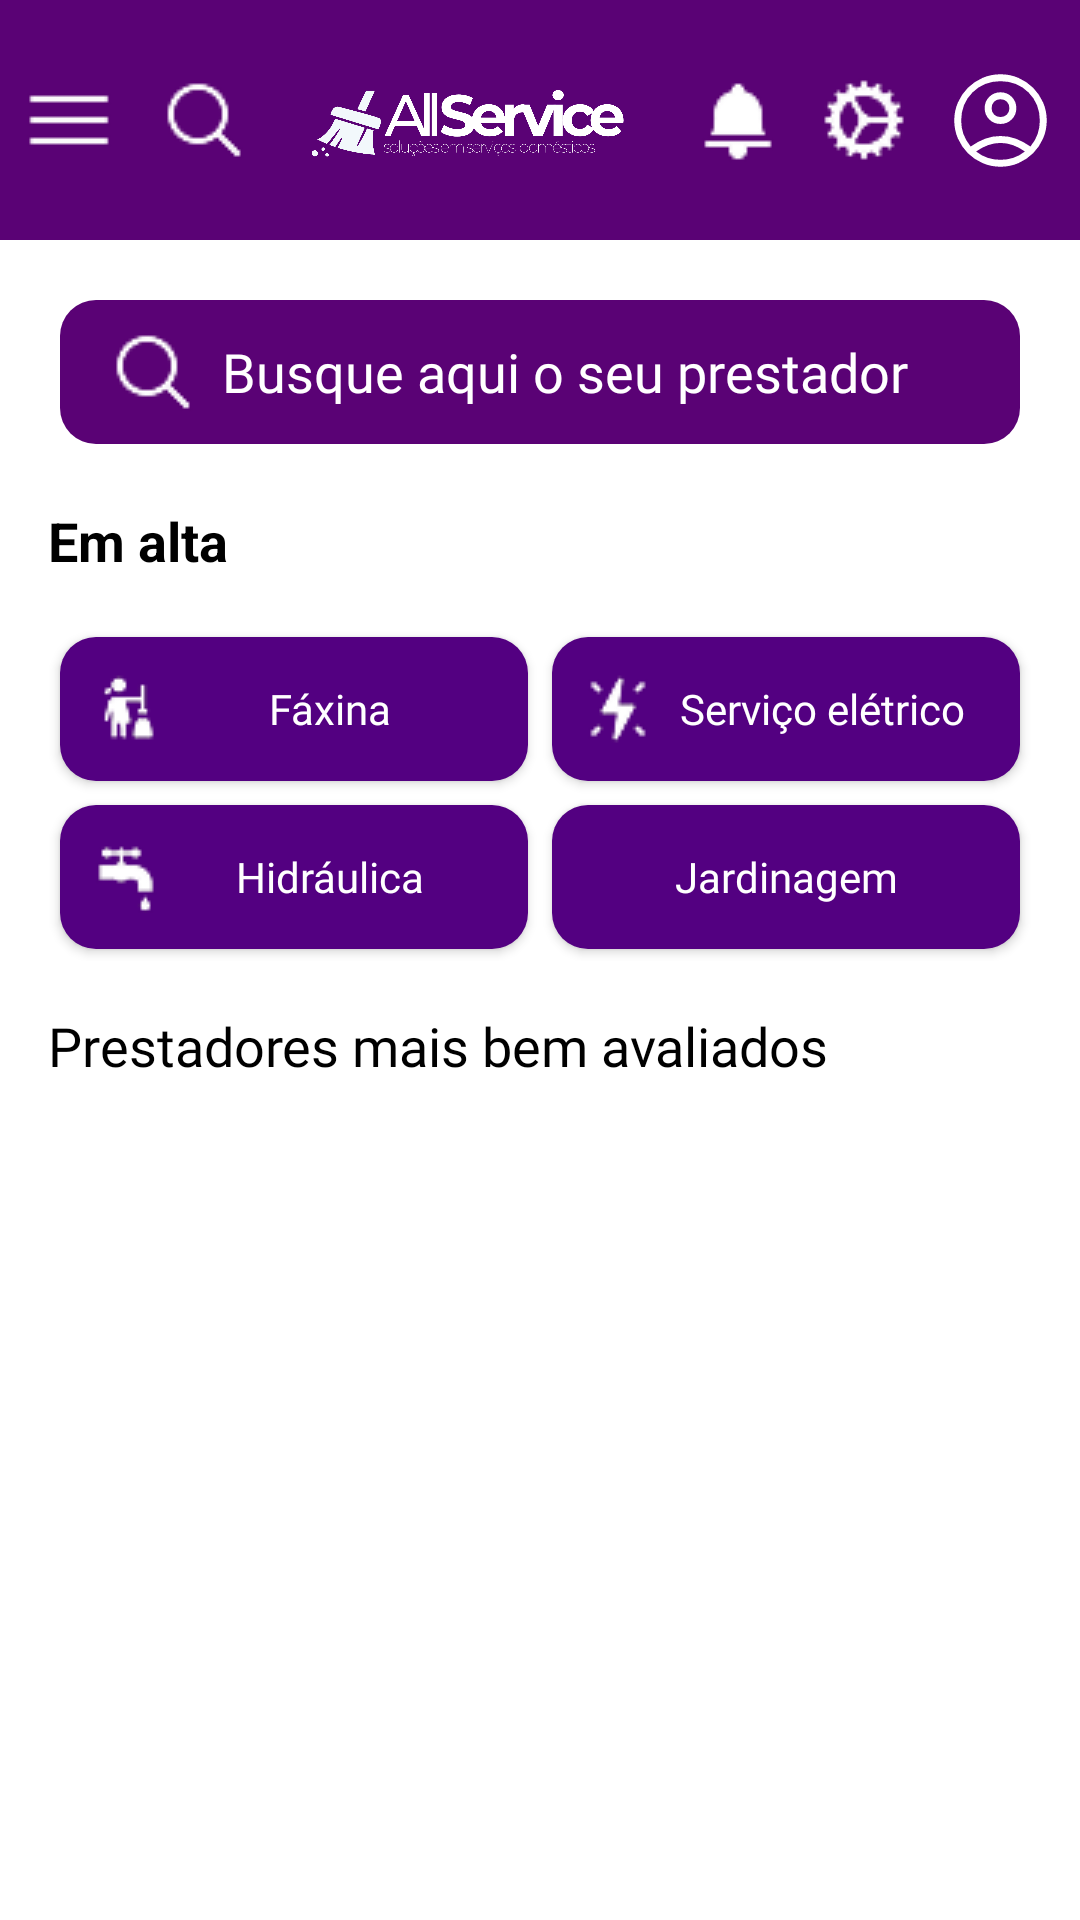

Where icons sit on this 1080 × 1920 app screen, as region(x1, y1, x2, y2):
Buscar: region(167, 83, 241, 157)
Configurações: region(824, 80, 904, 160)
Menu: region(29, 95, 109, 145)
Notificações: region(704, 83, 772, 160)
Perfil: region(954, 74, 1047, 167)
